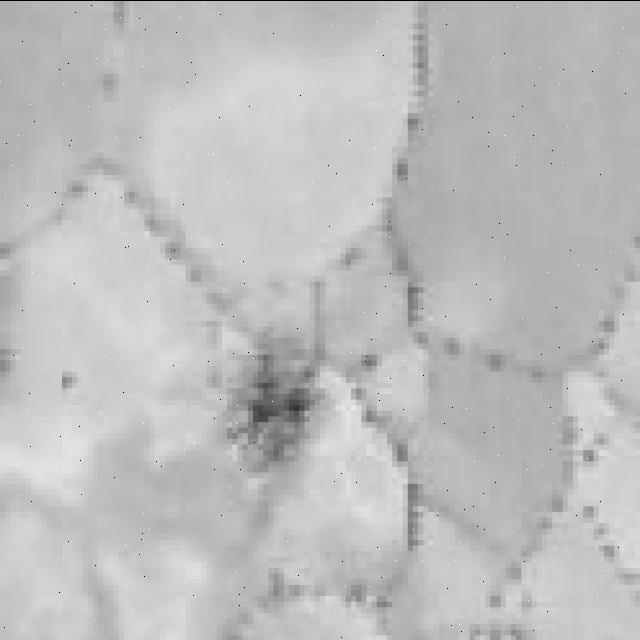good_void: (223, 335, 324, 475), (57, 365, 84, 394)
